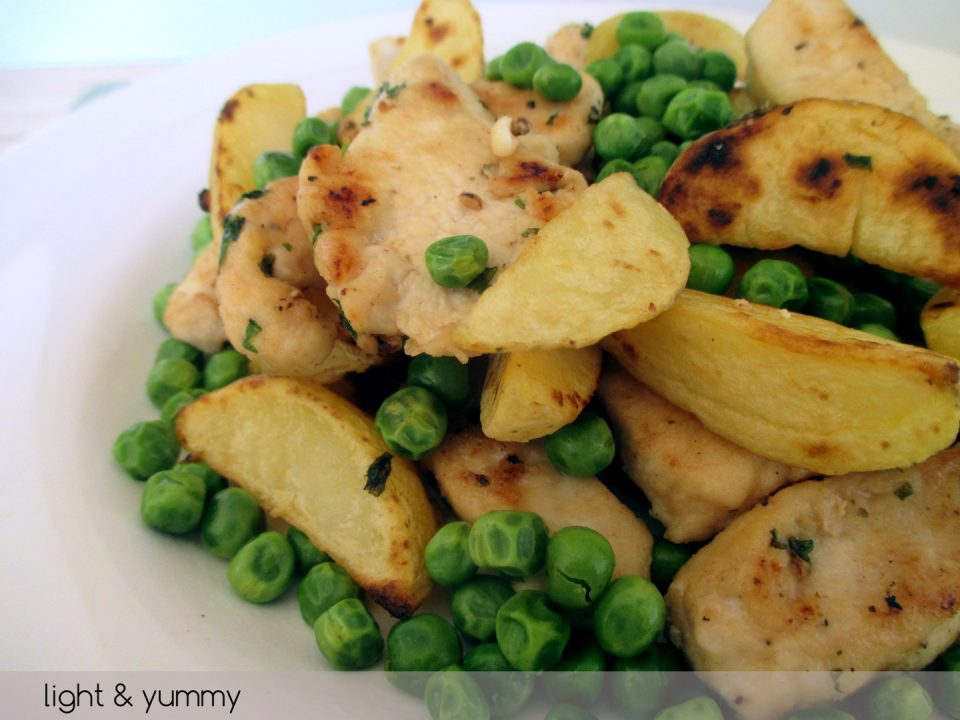boiled peas: (448, 535, 606, 664), (616, 25, 709, 111), (148, 459, 206, 535)
boiled potatoes: (667, 286, 935, 442)
